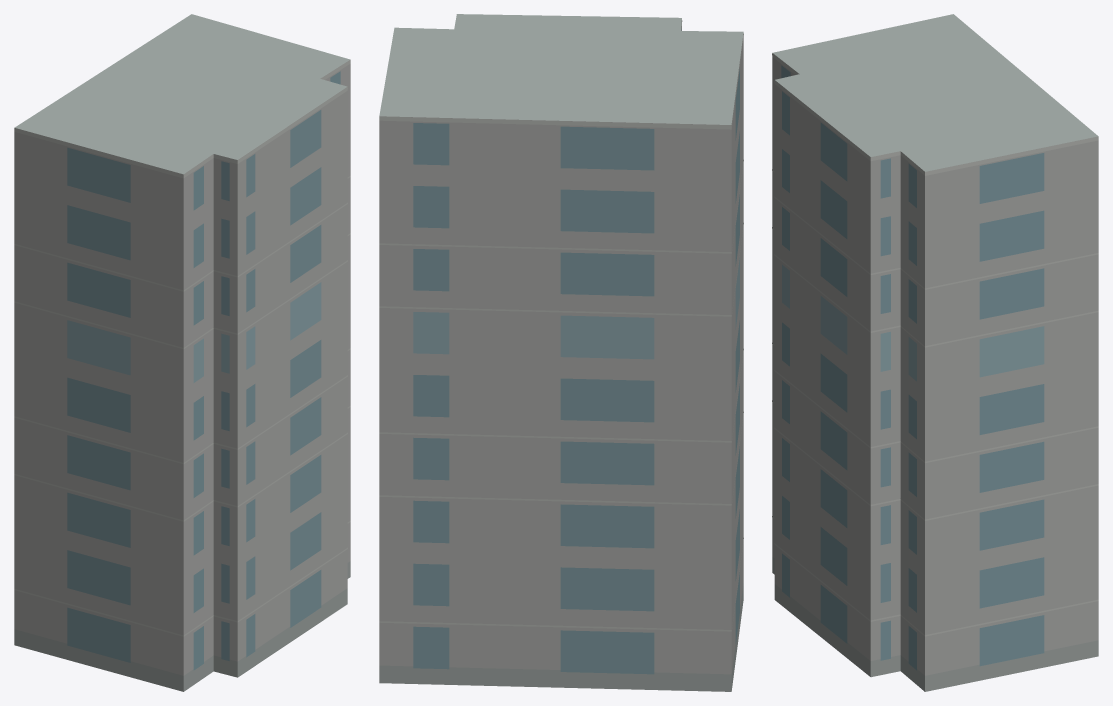
File: survey-upis-33044261.glb
3 views of the same model, side by side, from view 1: azimuth 30°, elevation 25°; view 2: azimuth 150°, elevation 25°; view 3: azimuth 270°, elevation 25° (orthographic). The views are drawn at different scales.
Visible parts, largest first — view 1: survey-upis-33044261.tmp; view 2: survey-upis-33044261.tmp; view 3: survey-upis-33044261.tmp.
Boxes of the visible parts, x1,y1,x2,y2 form: survey-upis-33044261.tmp: [14, 14, 350, 691]; survey-upis-33044261.tmp: [379, 14, 743, 691]; survey-upis-33044261.tmp: [772, 14, 1098, 691].
Bounding box in the file's own units: 20.34 × 31.2 × 17.76.
